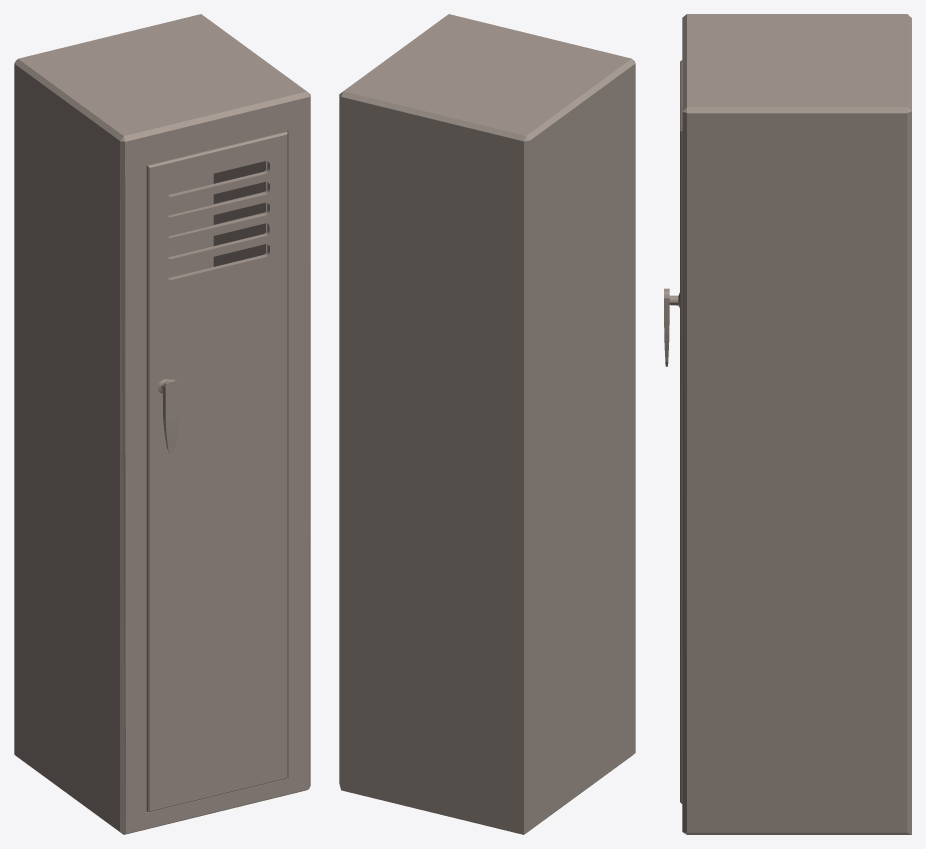
The model's file is Locker1.fbx.
3 renders of one model, left to right at view 1: azimuth 30°, elevation 25°; view 2: azimuth 150°, elevation 25°; view 3: azimuth 270°, elevation 25°, orthographic. The views are drawn at different scales.
Parts seen in each view (by area): view 1: Box01; view 2: Box01; view 3: Box01.
Boxes of the visible parts, left/top/right/bottom form: Box01: left=14, top=14, right=310, bottom=834; Box01: left=339, top=14, right=635, bottom=834; Box01: left=664, top=14, right=911, bottom=834.
Size of the model in its own units: 0.2 by 0.7 by 0.216.
